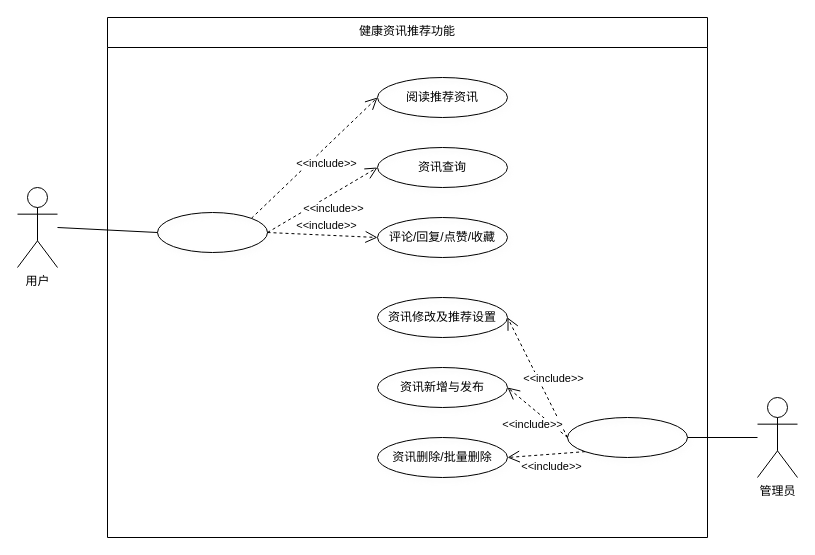
Image size: 815x555. Some labels were removed from this diagram. Each missing label, with the centre of its shape:
"健康资讯互动" goes at point (213, 234).
"健康资讯内容管理" goes at point (628, 438).
